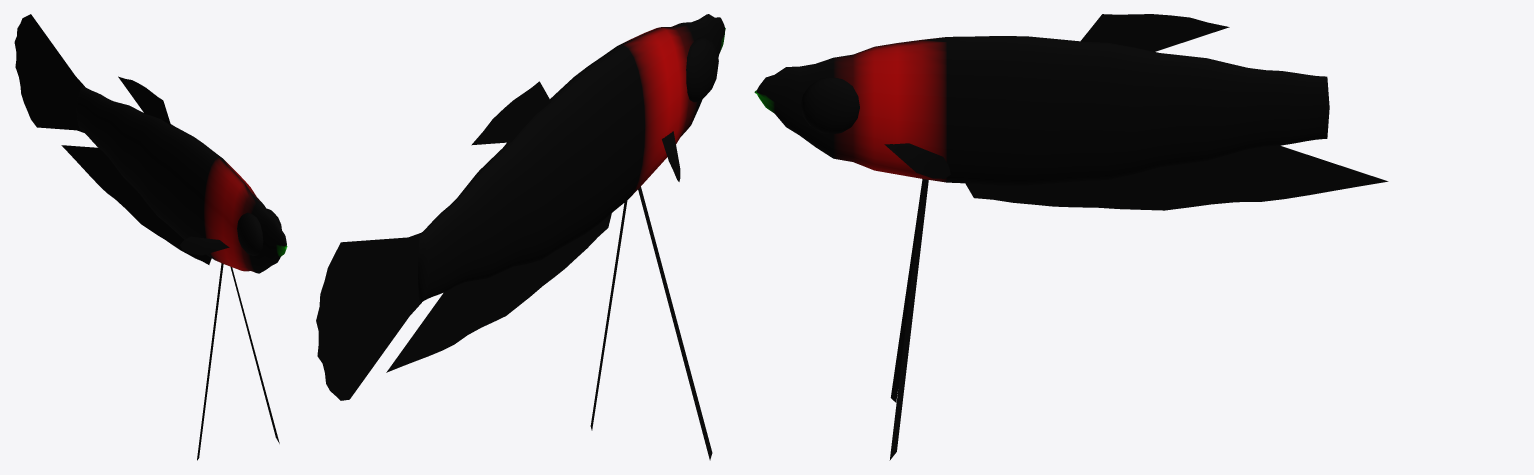
The model's file is croaking-gourami.glb.
3 renders of one model, left to right at view 1: azimuth 30°, elevation 25°; view 2: azimuth 150°, elevation 25°; view 3: azimuth 270°, elevation 25°, orthographic. The views are drawn at different scales.
Parts seen in each view (by area): view 1: croak_body, croak_caudal, croak_anal, croak_dorsal, croak_eyeL, croak_pectoralL, croak_pelvicL, croak_pelvicR; view 2: croak_body, croak_caudal, croak_anal, croak_dorsal, croak_eyeL, croak_pelvicL, croak_pelvicR, croak_pectoralL; view 3: croak_body, croak_anal, croak_dorsal, croak_eyeR, croak_pelvicR, croak_pectoralR, croak_pelvicL.
Part boxes in pixels (x1=…): croak_body: x1=76, y1=86, x2=287, y2=273; croak_caudal: x1=14, y1=14, x2=84, y2=132; croak_anal: x1=61, y1=145, x2=211, y2=264; croak_dorsal: x1=118, y1=76, x2=170, y2=125; croak_eyeL: x1=237, y1=212, x2=263, y2=255; croak_pectoralL: x1=180, y1=236, x2=229, y2=255; croak_pelvicL: x1=197, y1=263, x2=223, y2=460; croak_pelvicR: x1=230, y1=266, x2=279, y2=443; croak_body: x1=418, y1=14, x2=725, y2=302; croak_caudal: x1=316, y1=232, x2=421, y2=400; croak_anal: x1=386, y1=213, x2=611, y2=372; croak_dorsal: x1=471, y1=81, x2=550, y2=145; croak_eyeL: x1=686, y1=37, x2=718, y2=102; croak_pelvicL: x1=638, y1=186, x2=712, y2=460; croak_pelvicR: x1=590, y1=200, x2=627, y2=430; croak_pectoralL: x1=662, y1=131, x2=680, y2=181; croak_body: x1=754, y1=36, x2=1329, y2=185; croak_anal: x1=965, y1=145, x2=1388, y2=210; croak_dorsal: x1=1080, y1=14, x2=1229, y2=51; croak_eyeR: x1=800, y1=77, x2=859, y2=133; croak_pelvicR: x1=889, y1=179, x2=928, y2=460; croak_pectoralR: x1=884, y1=143, x2=950, y2=178; croak_pelvicL: x1=890, y1=179, x2=922, y2=402.
Bounding box in the file's own units: 0.2285 × 0.8066 × 1.34.
